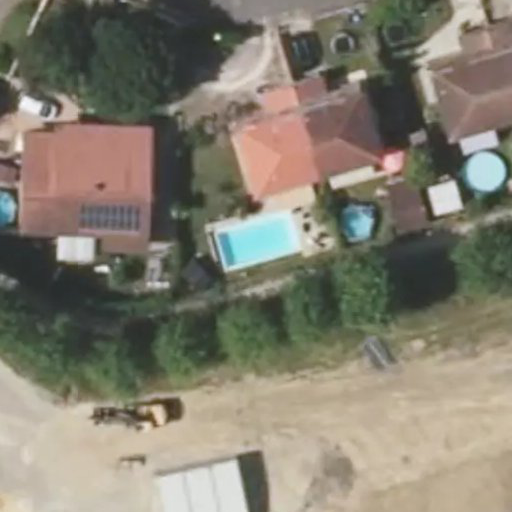pool: (211, 232, 300, 251)
